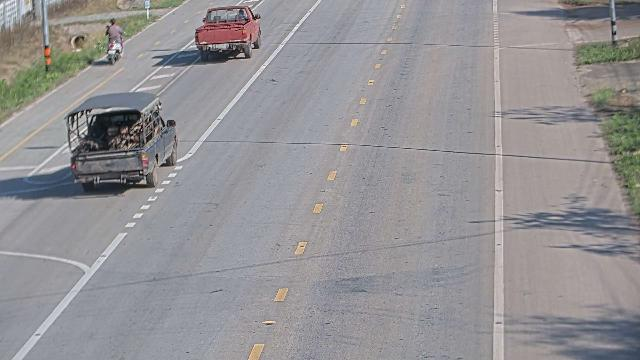pickup-truck: (63, 91, 178, 189), (194, 5, 261, 61)
